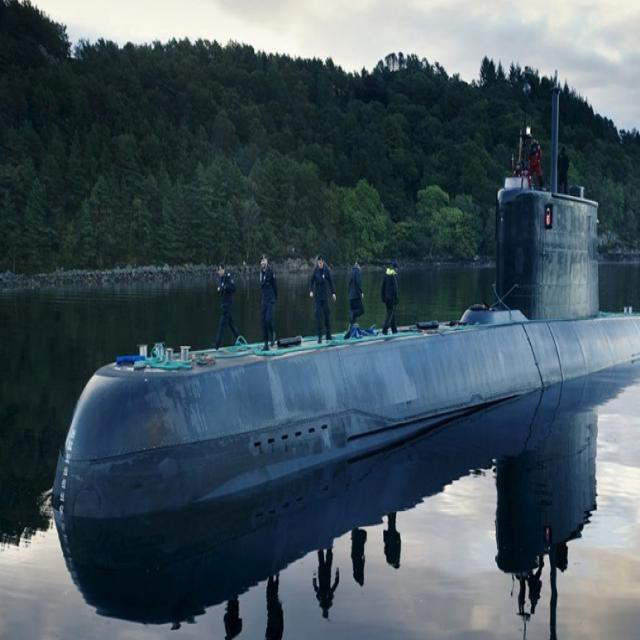submarine: (42, 76, 640, 546)
